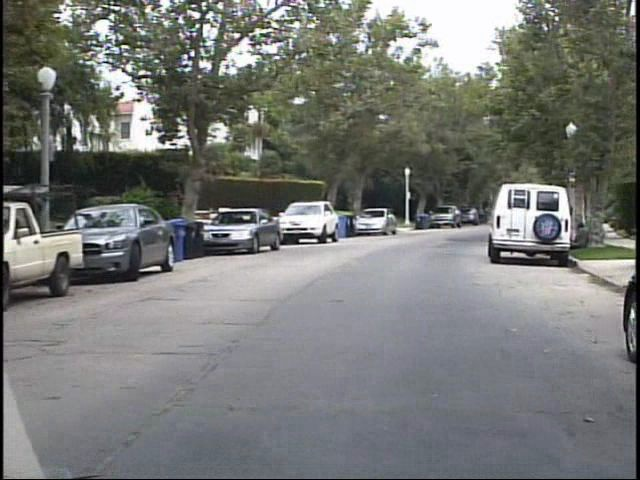person: (575, 221, 595, 254)
